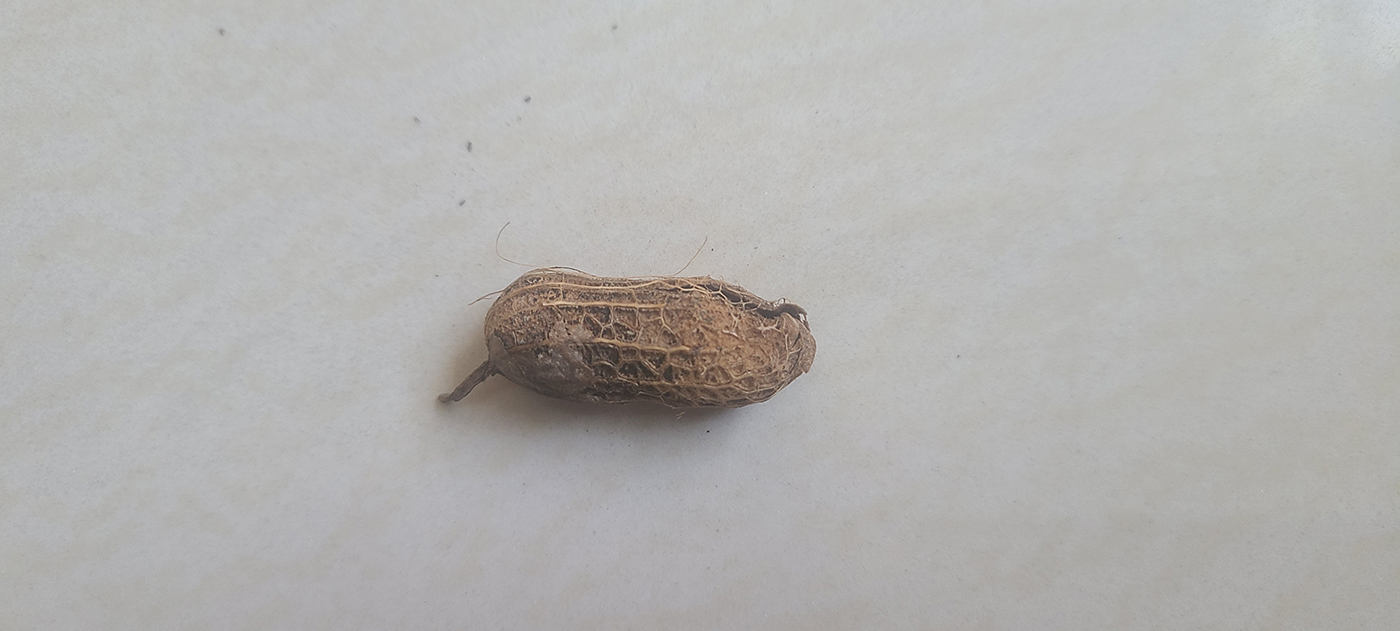l: (484, 266, 818, 413)
